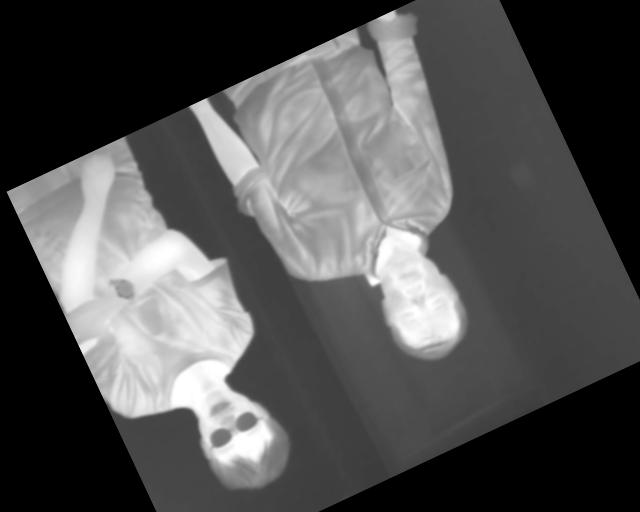face: (358, 233, 481, 375), (179, 368, 301, 503)
